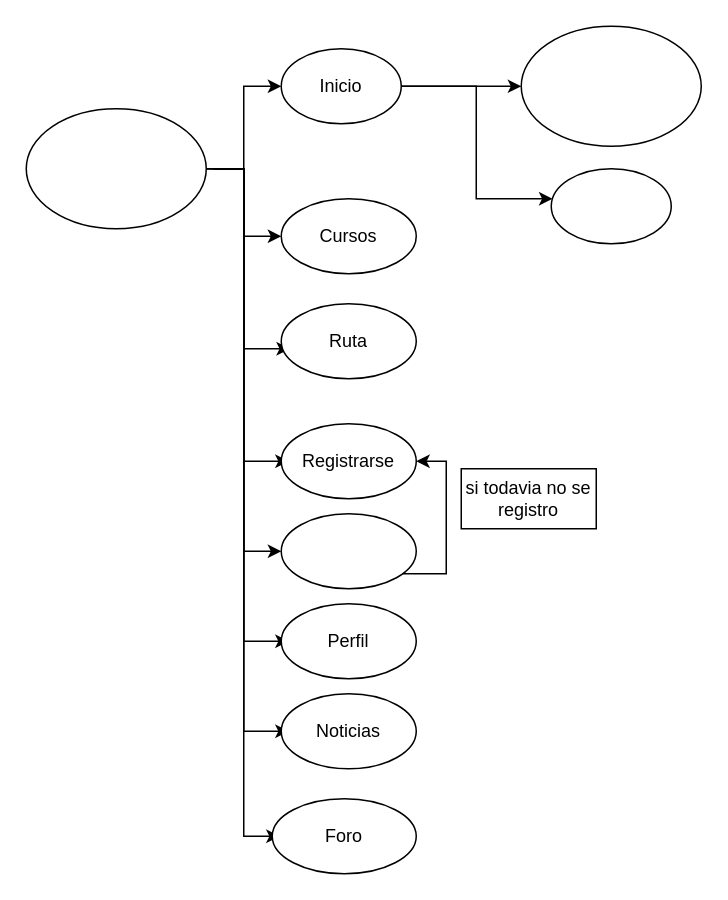
Some shapes in this 728 by 900 pixel diagram are drawn without their labels. Here are the shapes that lost their labels. From the top down, the centre of each, then its label:
(610,85): Sobre nosotros link a wordpress
(115,168): Capacit
(610,205): Video en youtube
(348,550): Login
